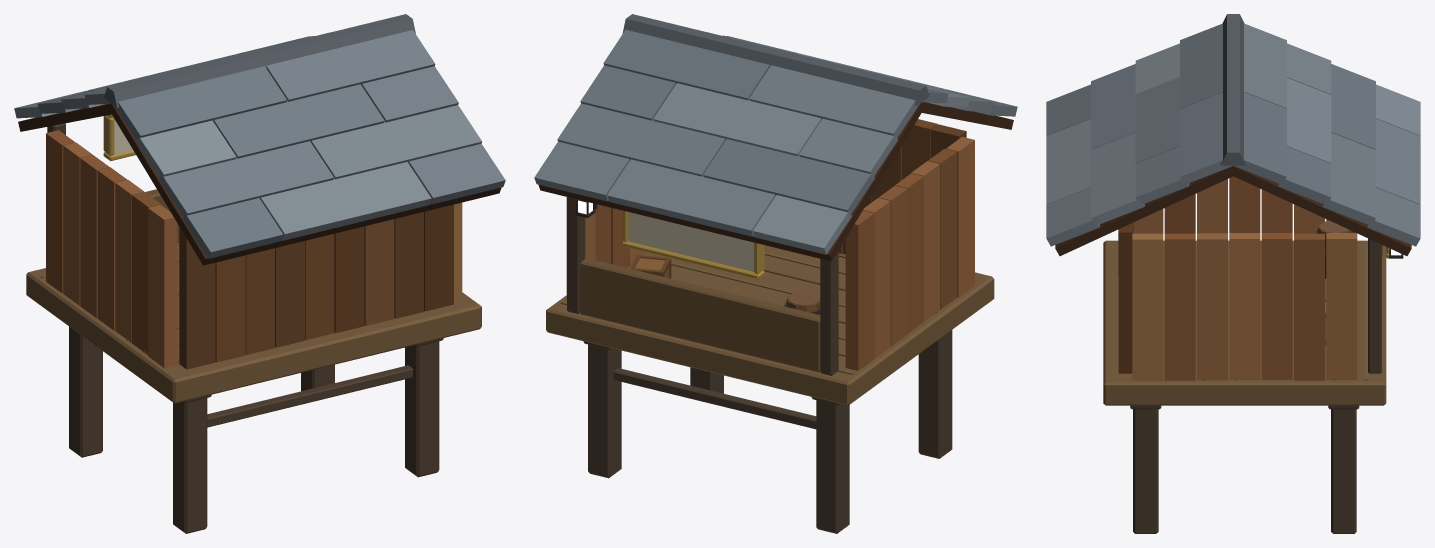
The model's file is BaitShack.glb.
The picture shows the model from 3 angles, left to right: view 1: azimuth 30°, elevation 25°; view 2: azimuth 150°, elevation 25°; view 3: azimuth 270°, elevation 25°; orthographic projection. The views are drawn at different scales.
Visible parts, largest first — view 1: Body, Deck; view 2: Body, Deck, Sign; view 3: Body, Deck.
Part boxes in pixels (x1,y1,x2,y2): Body: [14, 14, 505, 533]; Deck: [26, 242, 481, 403]; Body: [534, 14, 1017, 533]; Deck: [546, 245, 994, 405]; Sign: [628, 212, 753, 271]; Body: [1046, 14, 1420, 533]; Deck: [1103, 240, 1386, 405].
Size of what is drawn, in the model's own units: 12 by 15.3 by 13.22.
